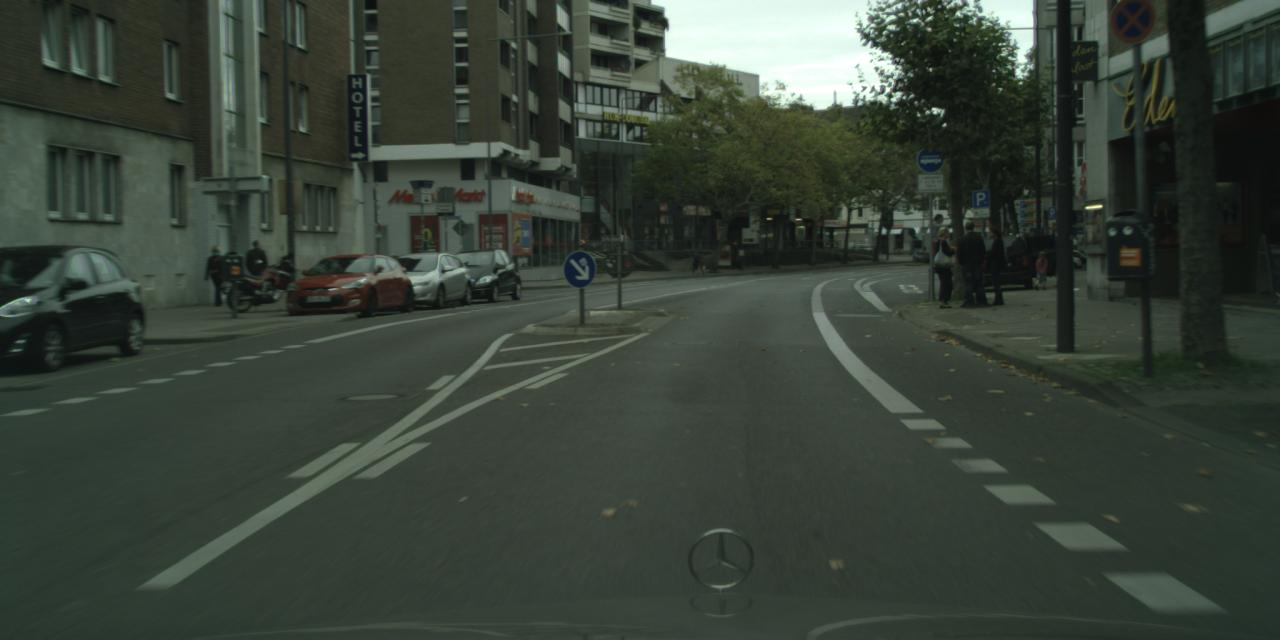ped: (955, 221, 990, 306), (928, 226, 961, 308), (979, 227, 1010, 304), (244, 240, 270, 302), (204, 246, 229, 306), (926, 213, 948, 268), (1032, 250, 1048, 288), (388, 252, 403, 292), (690, 252, 700, 272), (696, 253, 704, 274)
